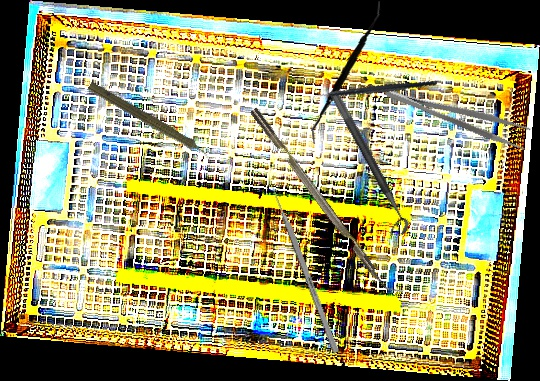Chopper: (249, 100, 405, 303), (306, 51, 438, 134)
Dressing Forceps: (382, 73, 534, 154)
Fixation Ring: (317, 89, 413, 241)
Handpiece: (84, 79, 218, 167)
Pusher: (266, 177, 340, 354)
Spatula Surgical: (302, 0, 392, 145)
